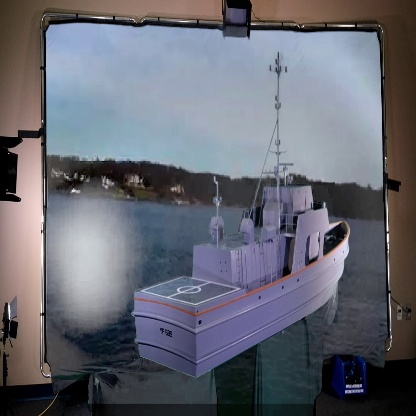YP689: (130, 49, 354, 384)
